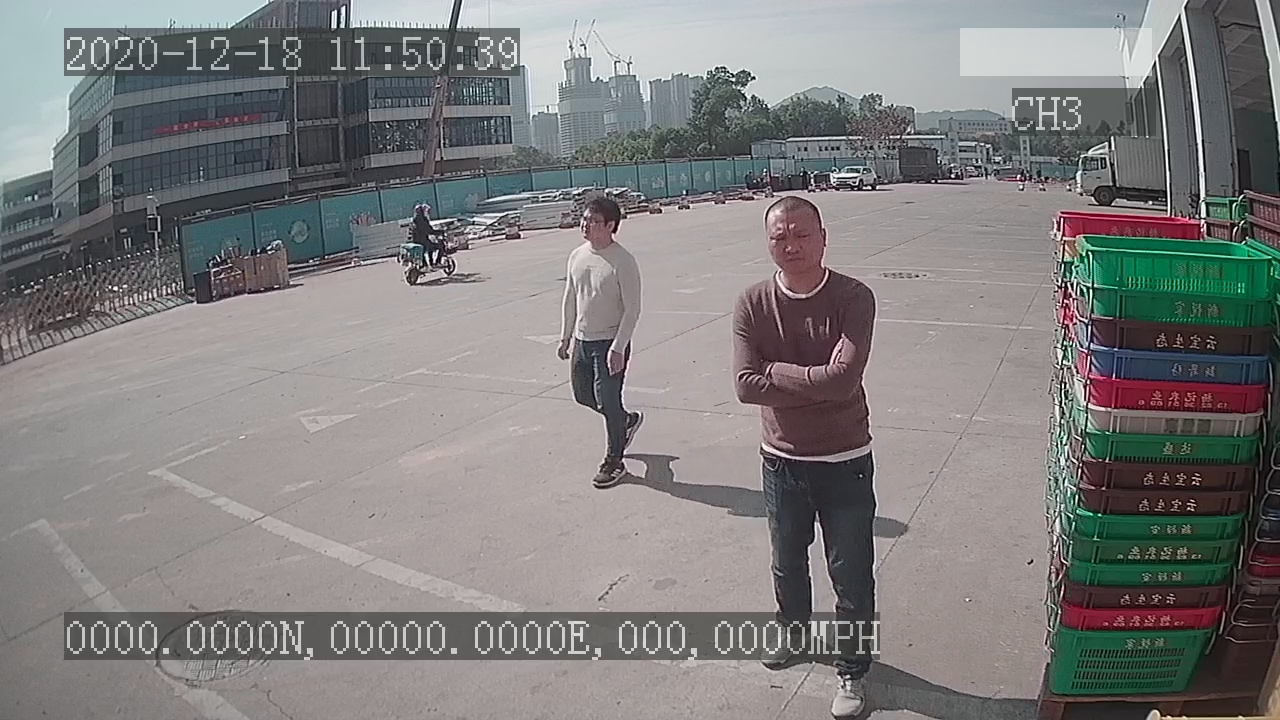person: (549, 197, 651, 494)
